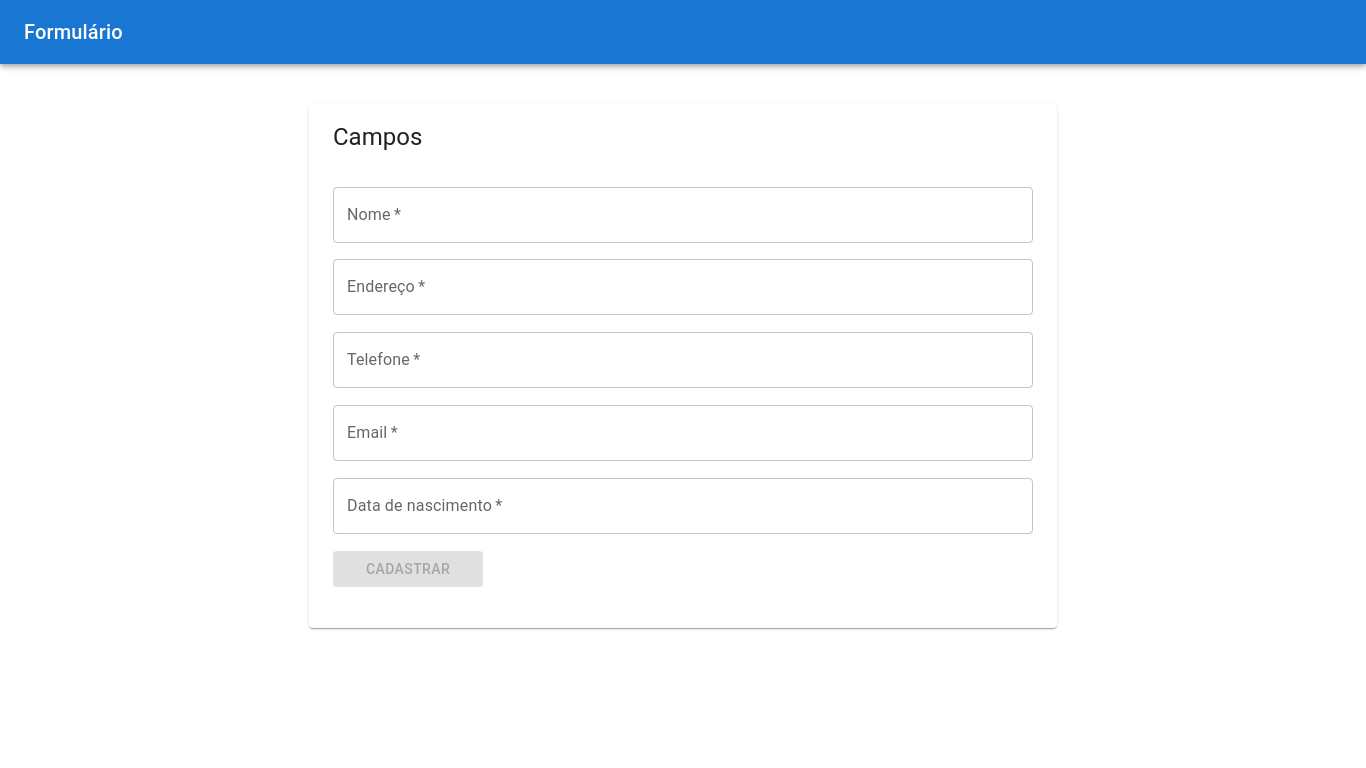
Se a data for invalida 30/02/2020, mostrar error
This screenshot has width=1366, height=768.
# inserir um valor aos inputs
Type "Mateus Lima" into the field labelled "Nome *".
click(683, 214); type("Mateus Lima")  # box [333,186,1033,242]
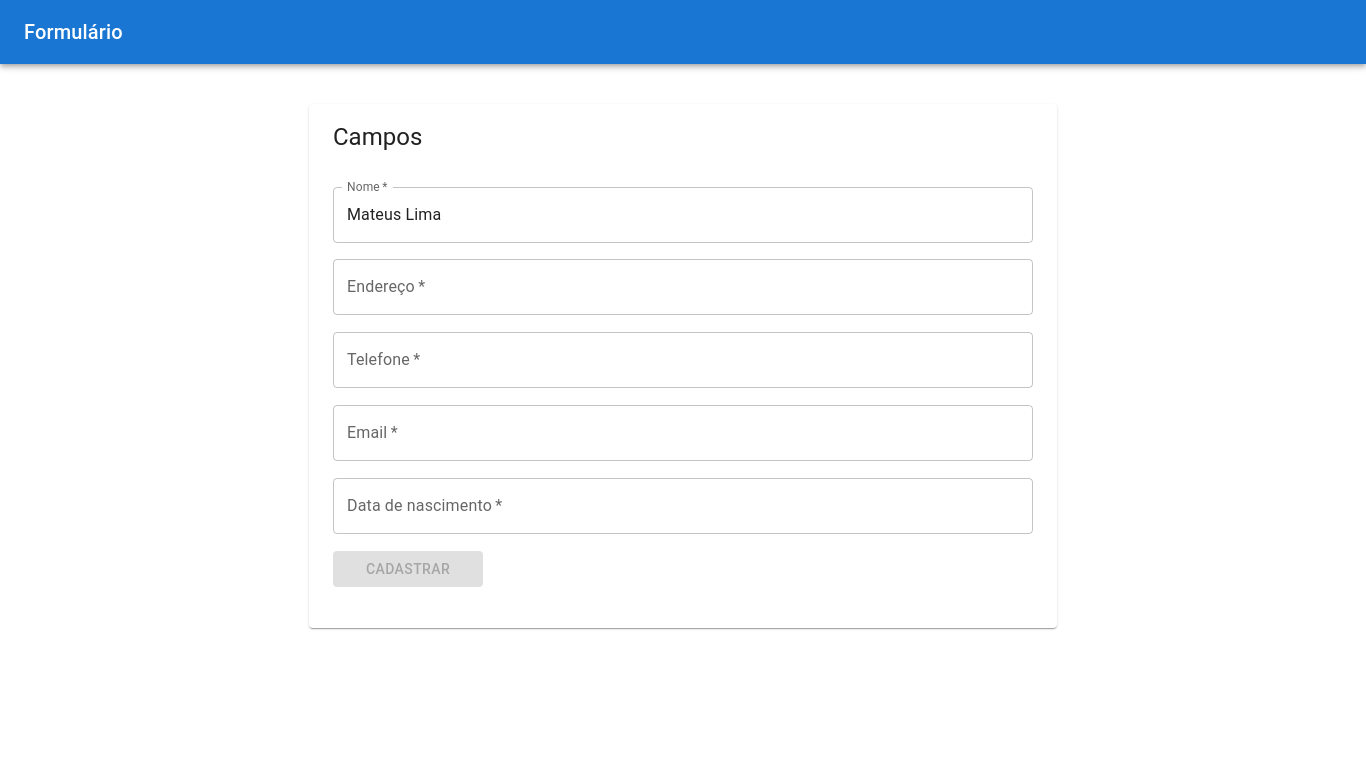
Type "Rua Lima, 23" into the field labelled "Endereço *".
click(683, 287); type("Rua Lima, 23")  # box [333,259,1033,315]
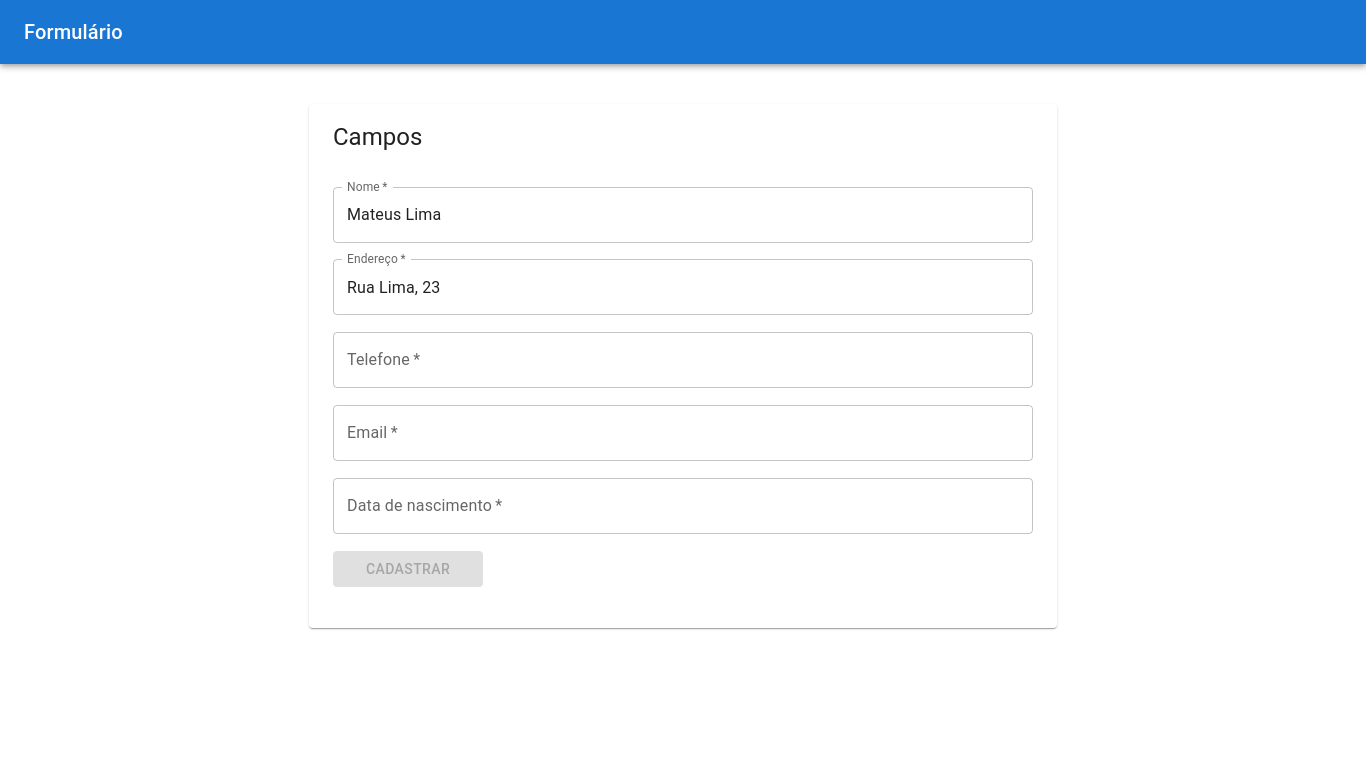
Type "85999999999" into the field labelled "Telefone *".
click(683, 360); type("85999999999")  # box [333,332,1033,388]
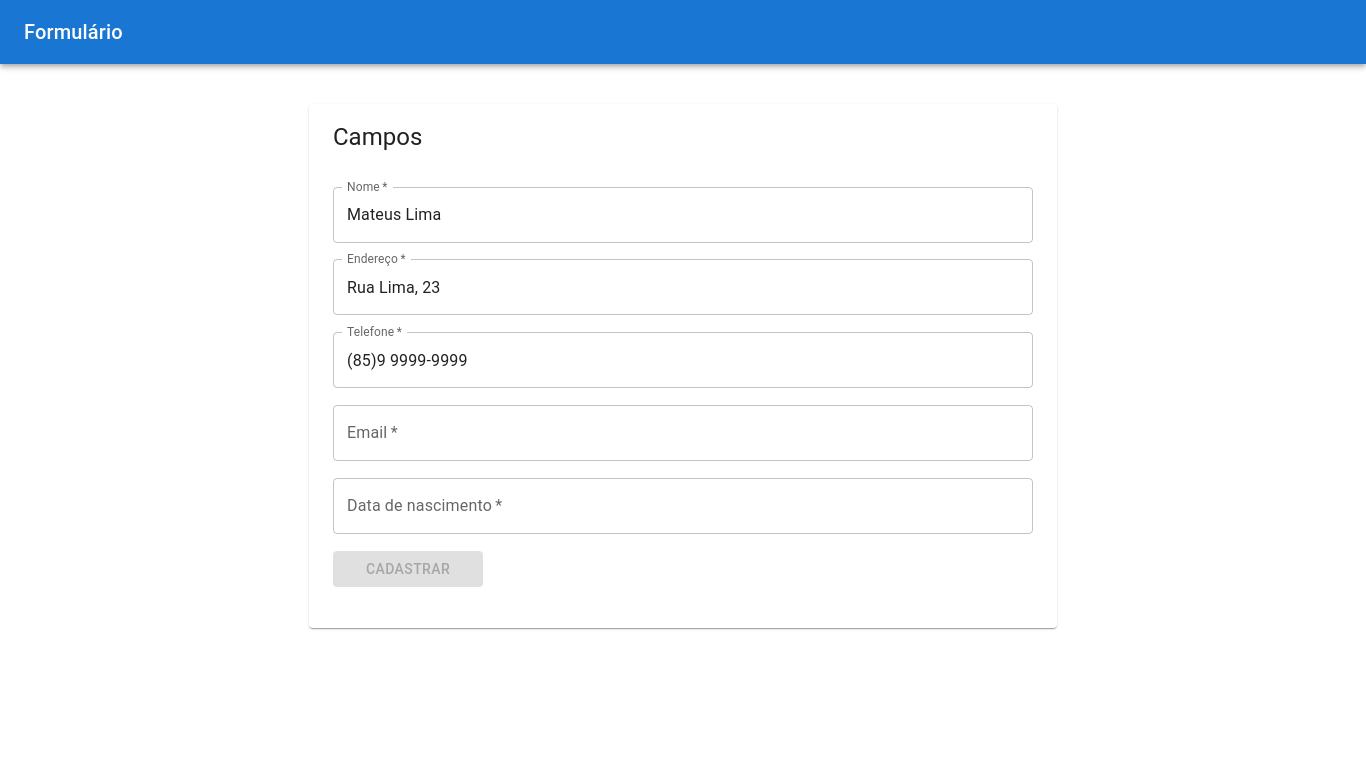
Type "mateus@gmail.com" into the field labelled "Email *".
click(683, 433); type("mateus@gmail.com")  # box [333,405,1033,461]
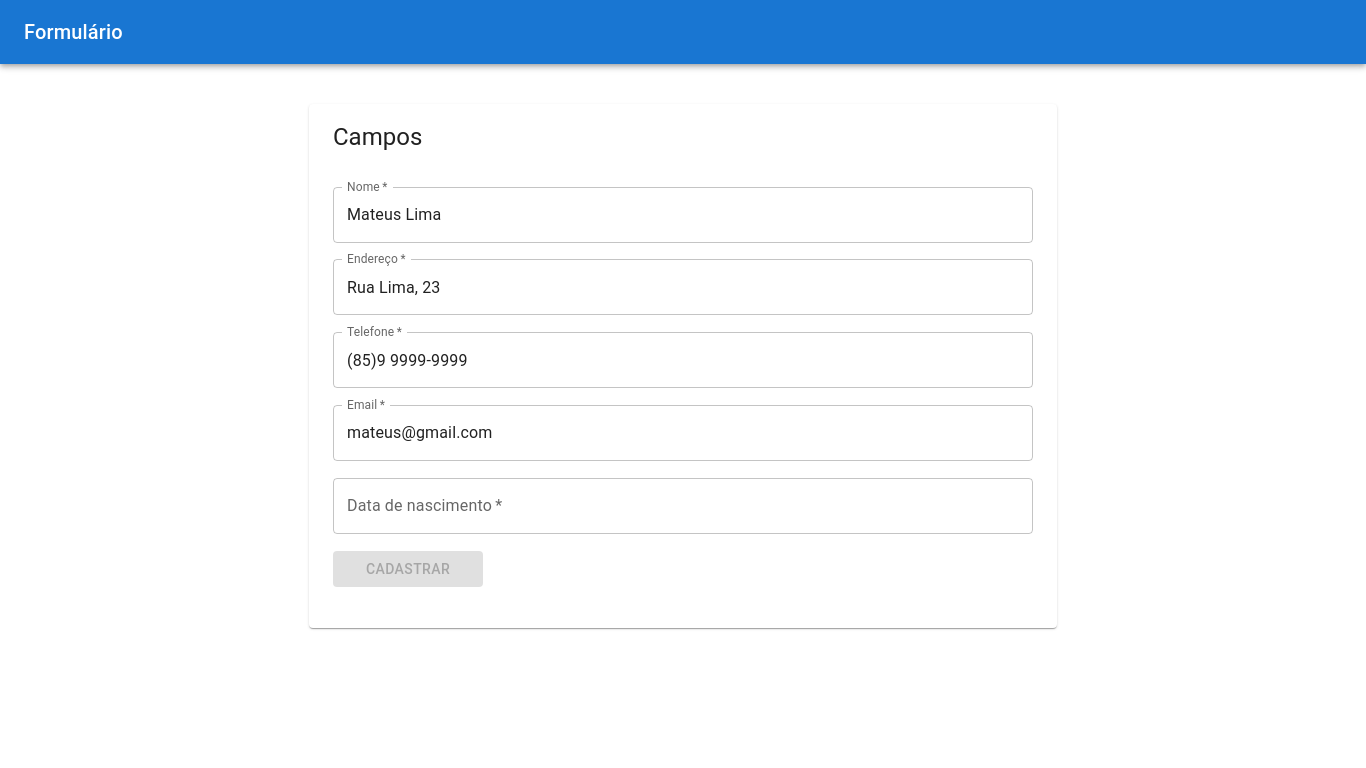
Type "30/02/2020" into the field labelled "Data de nascimento *".
click(683, 506); type("30/02/2020")  # box [333,478,1033,534]
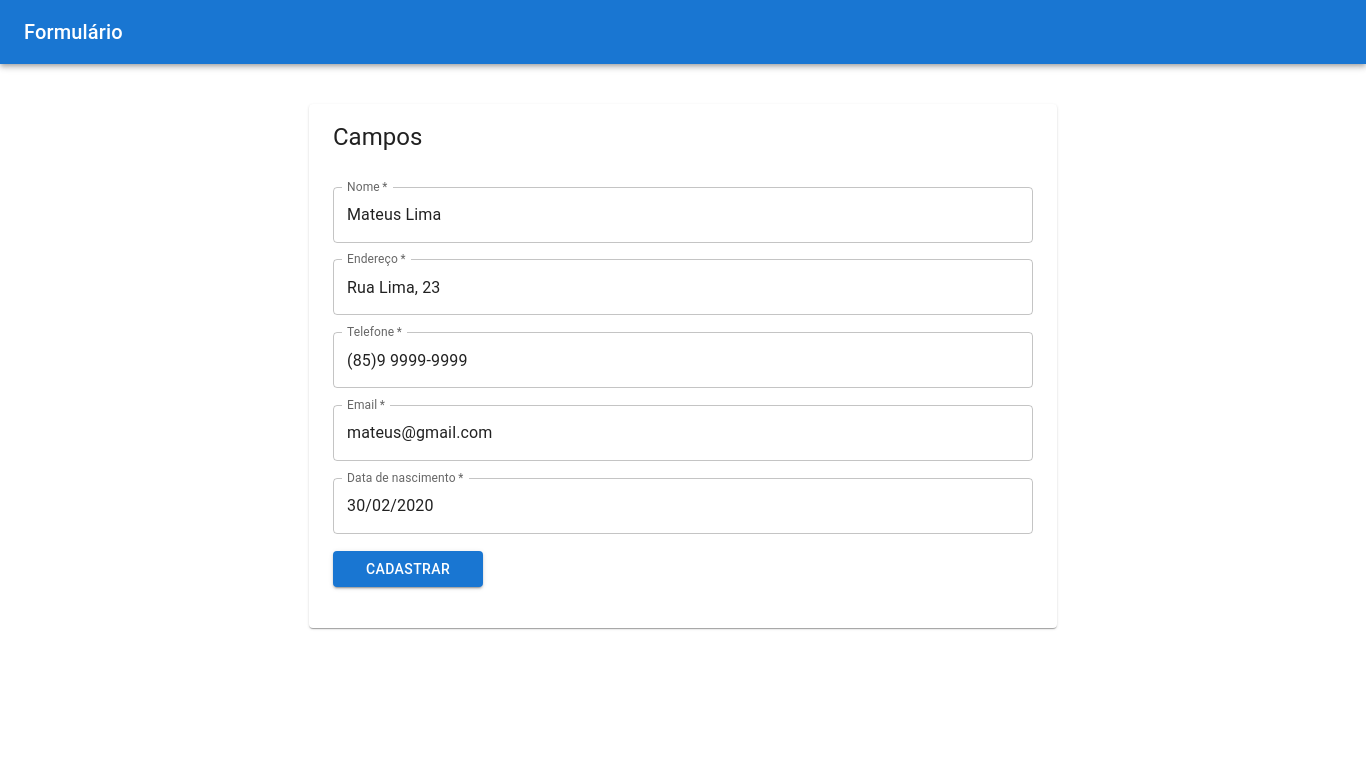
# clicar no botão de submeter
Click the button.
click(408, 569)  # box [333,551,483,587]
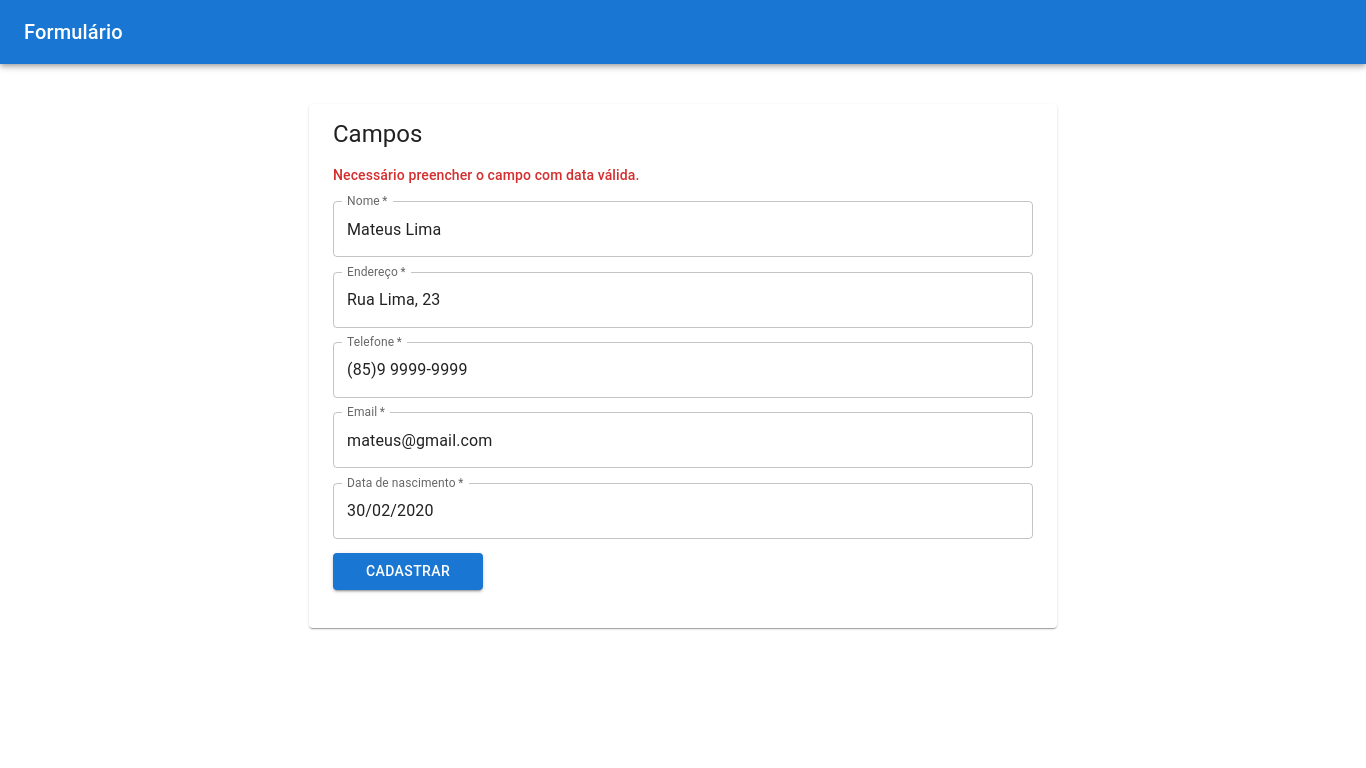
Expected: the heading "Necessário preencher o campo com data válida." is shown, [333,167,639,183]
